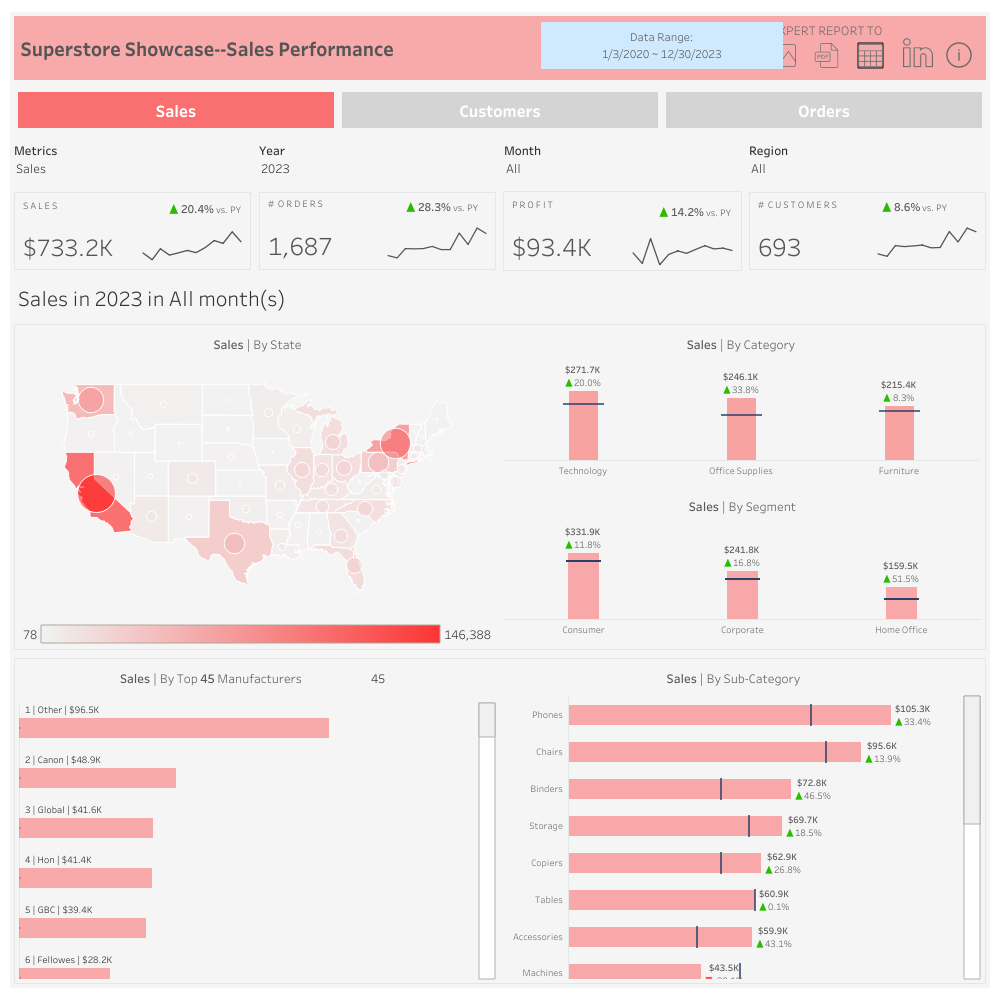

Layout of this report page (visuals, bound fields, positions):
{"tool":"tableau","page":{"name":"Sales","canvas":[1000,1000],"ordinal":2},"visuals":[{"type":"text","box":[10,12,980,72]},{"type":"text","box":[752,20,150,19]},{"type":"worksheet","title":"Last Updated","mark":"Automatic","box":[541,22,242,47]},{"type":"image","param":"Image/linkedin (1).png","box":[903,38,30,30]},{"type":"worksheet","title":"Info button","mark":"Shape","box":[943,39,30,30]},{"type":"dashboard-object","box":[771,43,25,25]},{"type":"dashboard-object","box":[814,43,25,25]},{"type":"dashboard-object","box":[858,43,25,25]},{"type":"dashboard-object","box":[14,88,324,44]},{"type":"text","box":[23,88,952,610]},{"type":"dashboard-object","box":[338,88,324,44]},{"type":"dashboard-object","box":[662,88,324,44]},{"type":"parameter","param":"[Parameters].[Parameter 4]","box":[10,136,245,52]},{"type":"parameter","param":"[Parameters].[Parameter 3]","box":[255,136,245,52]},{"type":"filter","title":"Sales | By State","param":"[federated.1rhh46y0eyurxd11t0t440ltmskl (copy)].[mn:Order Date:ok]","box":[500,136,245,52]},{"type":"filter","title":"Sales | By State","param":"[federated.1rhh46y0eyurxd11t0t440ltmskl (copy)].[none:Region:nk]","box":[745,136,245,52]},{"type":"worksheet","title":"Profit KPI (BAN)","mark":"Automatic","box":[504,192,119,78]},{"type":"worksheet","title":"Profit KPI % Chg (BAN)","mark":"Automatic","box":[623,192,118,40]},{"type":"worksheet","title":"Sales KPI (BAN) New","mark":"Automatic","box":[15,193,118,76]},{"type":"worksheet","title":"Sales KPI (%chg)","mark":"Automatic","box":[133,193,117,32]},{"type":"worksheet","title":"Total Orders KPI (BAN)","mark":"Automatic","box":[260,193,118,76]},{"type":"worksheet","title":"Total Orders KPI & Chg (BAN)","mark":"Automatic","box":[378,193,117,28]},{"type":"worksheet","title":"Total Customers KPI (BAN)","mark":"Automatic","box":[750,193,118,76]},{"type":"worksheet","title":"Total Customers KPI % Chg (BAN)","mark":"Automatic","box":[868,193,117,28]},{"type":"worksheet","title":"Total Orders KPI (Area)","mark":"Automatic","rows":["Order ID"],"cols":["Order Date"],"box":[378,221,117,48]},{"type":"worksheet","title":"Total Customers KPI (Area)","mark":"Automatic","rows":["Customer Name"],"cols":["Order Date"],"box":[868,221,117,48]},{"type":"worksheet","title":"Sales KPI (Line)","mark":"Automatic","rows":["Sales"],"cols":["Order Date"],"box":[133,225,117,44]},{"type":"worksheet","title":"Profit KPI (Line)","mark":"Automatic","rows":["Profit"],"cols":["Order Date"],"box":[623,232,118,38]},{"type":"worksheet","title":"Sales I Title","mark":"Automatic","box":[10,274,980,46]},{"type":"worksheet","title":"Sales | By State","mark":"Automatic","box":[15,325,485,292]},{"type":"worksheet","title":"Sales | By Category","mark":"Bar","rows":["Calculation_1053842352063021057","Metric Swap Calc (CY) (copy)_1053842352063516674"],"cols":["Category"],"box":[500,325,485,162]},{"type":"worksheet","title":"Sales | By Segment","mark":"Bar","rows":["Calculation_1053842352063021057","Metric Swap Calc (CY) (copy)_1053842352063516674"],"cols":["Segment"],"box":[500,487,485,162]},{"type":"legend","title":"Sales | By State","param":"[federated.1rhh46y0eyurxd11t0t440ltmskl (copy)].[usr:Calculation_105384235206302","box":[15,617,485,32]},{"type":"blank","box":[15,659,97,40]},{"type":"worksheet","title":"Sales I title 2","mark":"Automatic","box":[112,659,253,40]},{"type":"parameter","param":"[Parameters].[Top Customers (copy)_1433552097073033219]","box":[365,659,103,40]},{"type":"blank","box":[468,659,32,40]},{"type":"worksheet","title":"Sales | By Sub-Category","mark":"Bar","rows":["Sub-Category"],"cols":["Calculation_1053842352063021057","Metric Swap Calc (CY) (copy)_1053842352063516674"],"box":[500,659,485,324]},{"type":"blank","box":[23,698,952,282]},{"type":"worksheet","title":"Sales | By Manufacturer","mark":"Bar","rows":["Calculation_1864208809936994351"],"cols":["Calculation_1053842352063021057","Calculation_1864208809940881457"],"box":[15,699,485,284]}]}

Visuals, with their boxes in screenshot pixels (x1, y1, x2, y2), scaled from the page's 1000x1000 canvas onto the 999x999 screenshot:
text: l=10, t=12, r=989, b=84
text: l=751, t=20, r=901, b=39
"Last Updated" worksheet: l=540, t=22, r=782, b=69
image: l=902, t=38, r=932, b=68
"Info button" worksheet (Shape marks): l=942, t=39, r=972, b=69
dashboard-object: l=770, t=43, r=795, b=68
dashboard-object: l=813, t=43, r=838, b=68
dashboard-object: l=857, t=43, r=882, b=68
dashboard-object: l=14, t=88, r=338, b=132
text: l=23, t=88, r=974, b=697
dashboard-object: l=338, t=88, r=661, b=132
dashboard-object: l=661, t=88, r=985, b=132
parameter: l=10, t=136, r=255, b=188
parameter: l=255, t=136, r=500, b=188
"Sales | By State" filter: l=500, t=136, r=744, b=188
"Sales | By State" filter: l=744, t=136, r=989, b=188
"Profit KPI (BAN)" worksheet: l=503, t=192, r=622, b=270
"Profit KPI % Chg (BAN)" worksheet: l=622, t=192, r=740, b=232
"Sales KPI (BAN) New" worksheet: l=15, t=193, r=133, b=269
"Sales KPI (%chg)" worksheet: l=133, t=193, r=250, b=225
"Total Orders KPI (BAN)" worksheet: l=260, t=193, r=378, b=269
"Total Orders KPI & Chg (BAN)" worksheet: l=378, t=193, r=495, b=221
"Total Customers KPI (BAN)" worksheet: l=749, t=193, r=867, b=269
"Total Customers KPI % Chg (BAN)" worksheet: l=867, t=193, r=984, b=221
"Total Orders KPI (Area)" worksheet: l=378, t=221, r=495, b=269
"Total Customers KPI (Area)" worksheet: l=867, t=221, r=984, b=269
"Sales KPI (Line)" worksheet: l=133, t=225, r=250, b=269
"Profit KPI (Line)" worksheet: l=622, t=232, r=740, b=270
"Sales I Title" worksheet: l=10, t=274, r=989, b=320
"Sales | By State" worksheet: l=15, t=325, r=500, b=616
"Sales | By Category" worksheet (Bar marks): l=500, t=325, r=984, b=487
"Sales | By Segment" worksheet (Bar marks): l=500, t=487, r=984, b=648
"Sales | By State" legend: l=15, t=616, r=500, b=648
blank: l=15, t=658, r=112, b=698
"Sales I title 2" worksheet: l=112, t=658, r=365, b=698
parameter: l=365, t=658, r=468, b=698
blank: l=468, t=658, r=500, b=698
"Sales | By Sub-Category" worksheet (Bar marks): l=500, t=658, r=984, b=982
blank: l=23, t=697, r=974, b=979
"Sales | By Manufacturer" worksheet (Bar marks): l=15, t=698, r=500, b=982
